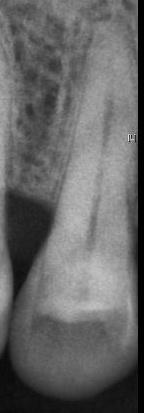tooth: (8, 20, 136, 401)
